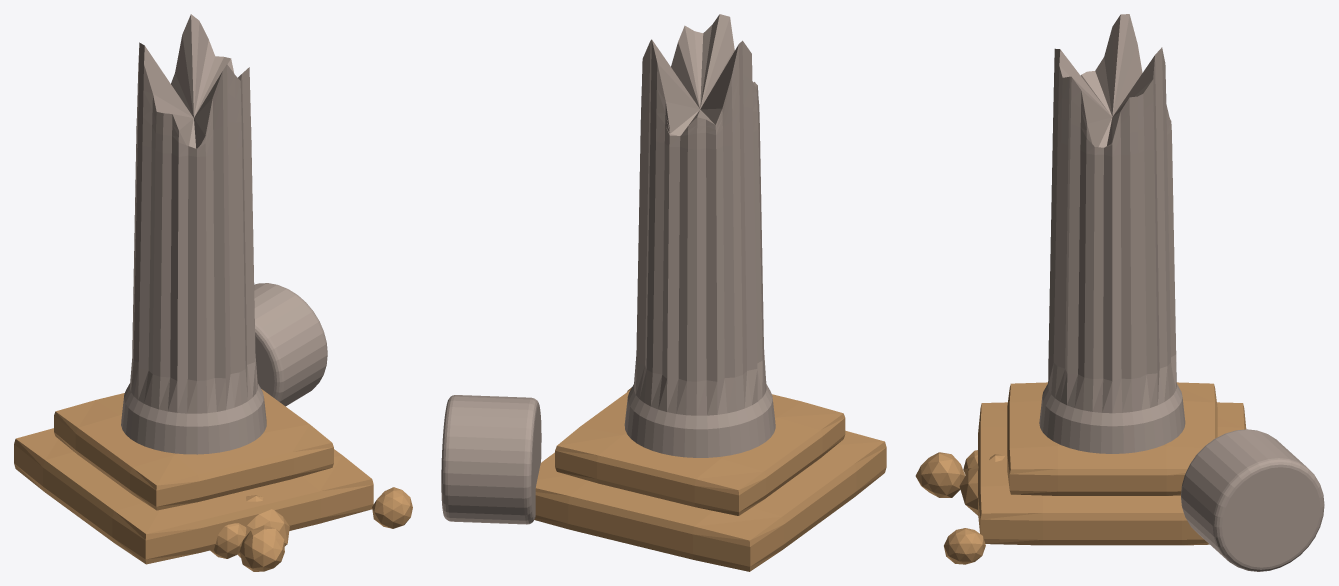
The model's file is SandRuin.obj.
3 renders of one model, left to right at view 1: azimuth 30°, elevation 25°; view 2: azimuth 150°, elevation 25°; view 3: azimuth 270°, elevation 25°, orthographic. The views are drawn at different scales.
Parts seen in each view (by area): view 1: Stone, Base; view 2: Stone, Base; view 3: Stone, Base.
Part boxes in pixels (<box>): Stone: <box>121,14,327,454</box>; Base: <box>14,389,412,571</box>; Stone: <box>441,14,775,524</box>; Base: <box>534,387,886,571</box>; Stone: <box>1039,14,1324,571</box>; Base: <box>915,382,1246,564</box>.
Bounding box in the file's own units: 5.98 × 9.02 × 7.
